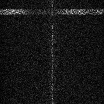wifi: (1, 8, 104, 14)
